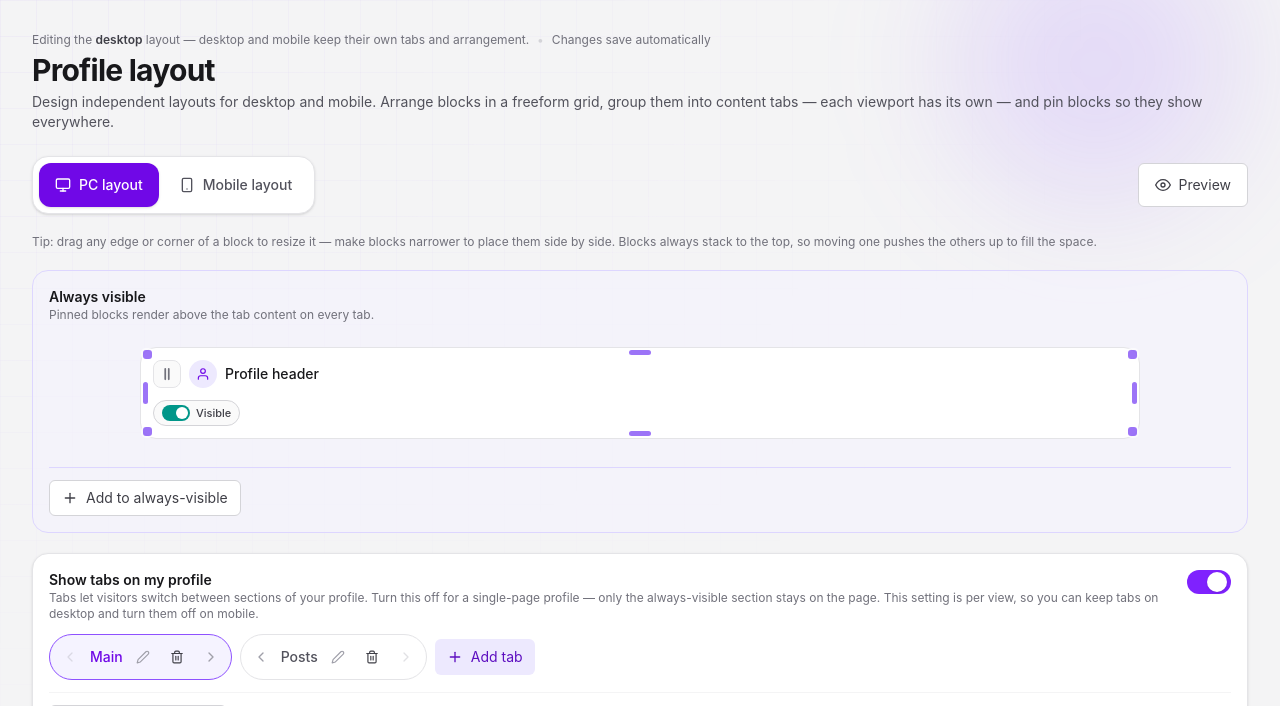
it: ProfileLayoutPage — the per-viewport tabs switch › keeps the first click even when a layout read is already in flight
Check: the button "Add tab" is shown, box [435,639,535,675]
Click the switch named "Show tabs on my profile": (1209, 582) [1187,570,1231,594]
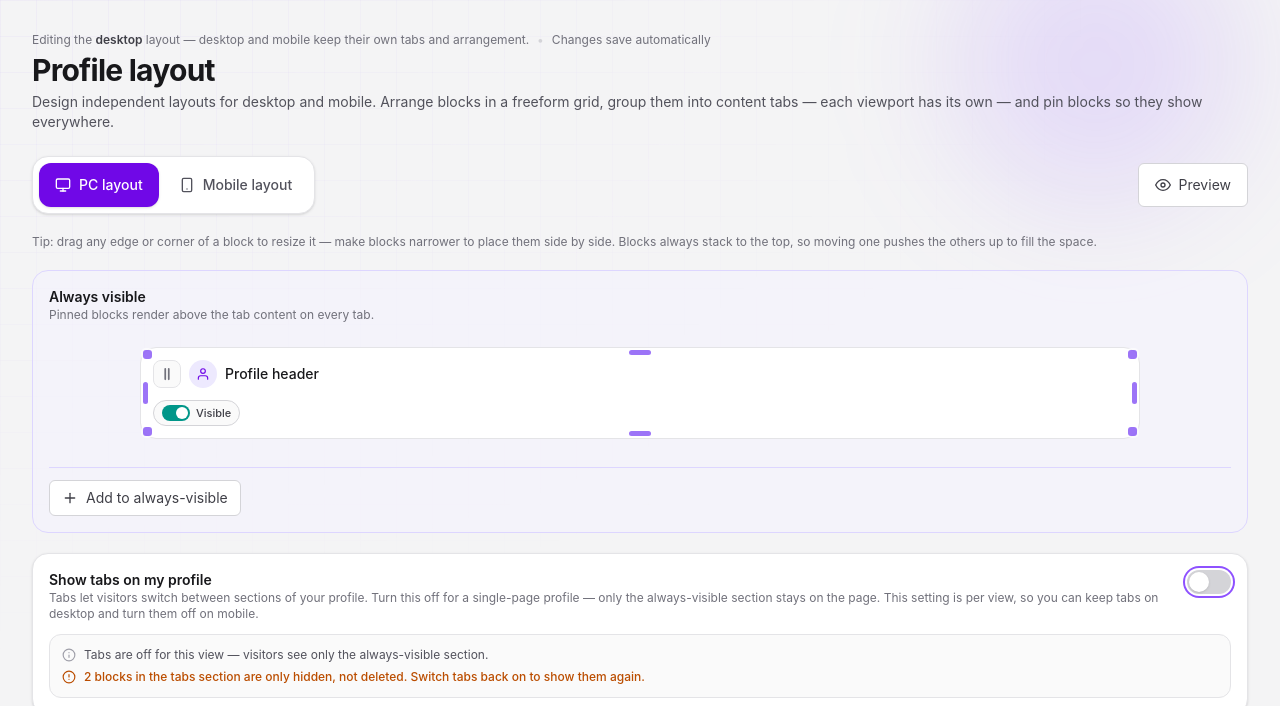
Check: the switch named "Show tabs on my profile" is not checked, box [1187,570,1231,594]
Check: the button "Add tab" is gone
